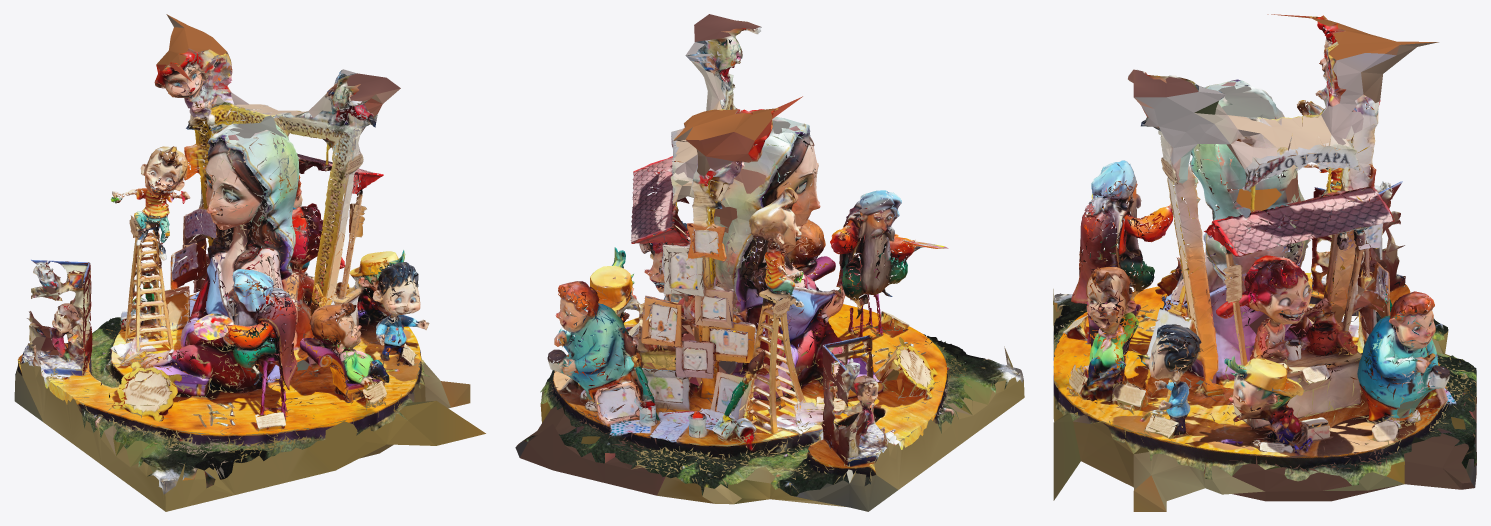
The model's file is SALIDA_Segrelles_Blender_4.glb.
The picture shows the model from 3 angles, left to right: view 1: azimuth 30°, elevation 25°; view 2: azimuth 150°, elevation 25°; view 3: azimuth 270°, elevation 25°; orthographic projection. The views are drawn at different scales.
Parts seen in each view (by area): view 1: Mesh_0.002; view 2: Mesh_0.002; view 3: Mesh_0.002.
Boxes of the visible parts, x1=… form: Mesh_0.002: x1=14, y1=14, x2=485, y2=511; Mesh_0.002: x1=515, y1=14, x2=1024, y2=511; Mesh_0.002: x1=1053, y1=14, x2=1476, y2=511.
Size of the model in its own units: 2.94 by 2.74 by 2.79.
1 material, 1 textured.
